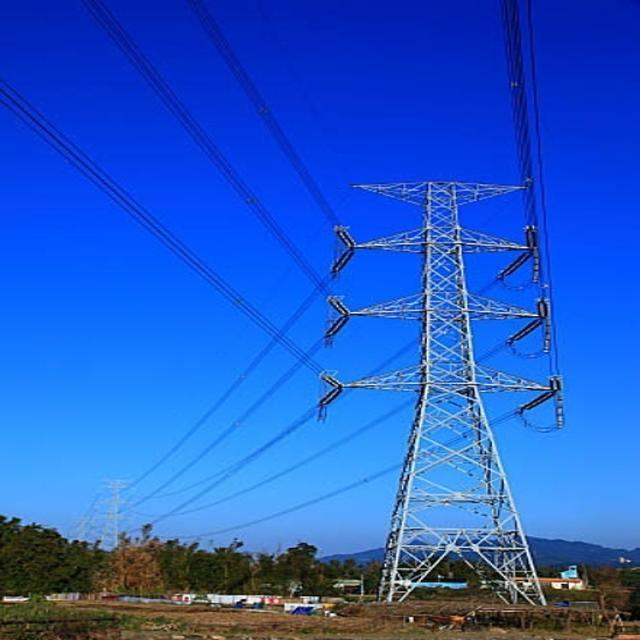non-critical vegetation: (305, 171, 574, 597)
